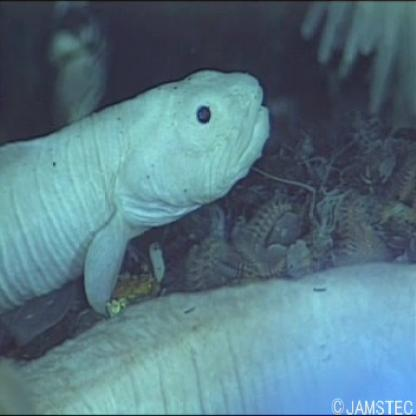Bio: (1, 62, 275, 316)
